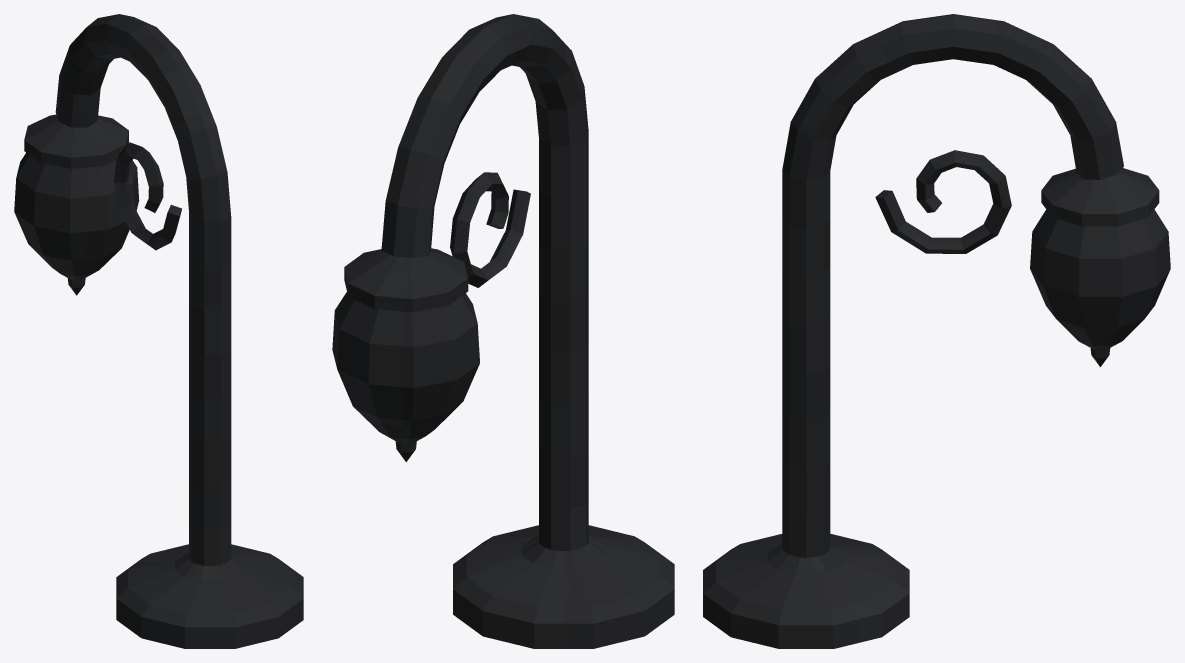
The model's file is decolight_reprobishopscrook.obj.
3 views of the same model, side by side, from view 1: azimuth 30°, elevation 25°; view 2: azimuth 150°, elevation 25°; view 3: azimuth 270°, elevation 25° (orthographic). The views are drawn at different scales.
Visible parts, largest first — view 1: decolight_reprobishopscrook; view 2: decolight_reprobishopscrook; view 3: decolight_reprobishopscrook.
Part boxes in pixels (x1=…): decolight_reprobishopscrook: x1=14, y1=14, x2=303, y2=648; decolight_reprobishopscrook: x1=332, y1=14, x2=674, y2=648; decolight_reprobishopscrook: x1=703, y1=14, x2=1170, y2=648.
Size of the model in its own units: 0.483 by 1.52 by 1.09.
